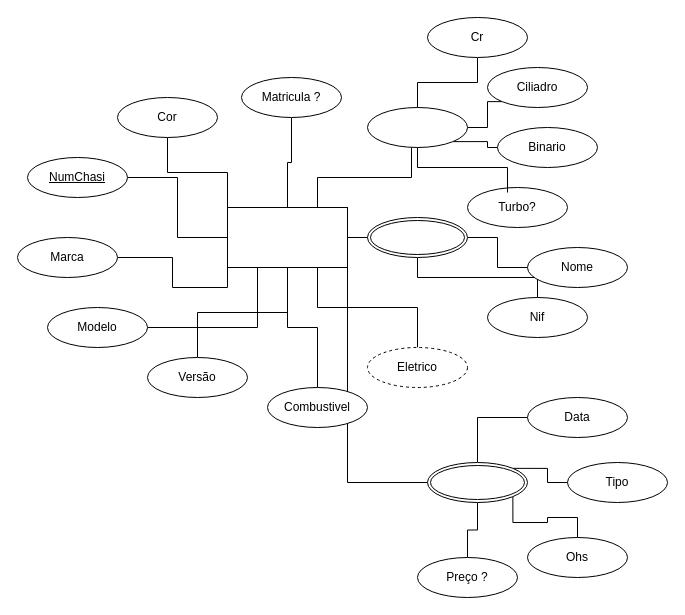
The diagram is 685 pixels wide and 615 high, and some of its shapes have lost their labels. The centre of each missing label's shape, as x and y in pixels:
"CARRO" goes at [287,237].
"Custom" goes at [477,482].
"Dono" goes at [417,237].
"Motor" goes at [417,127].
